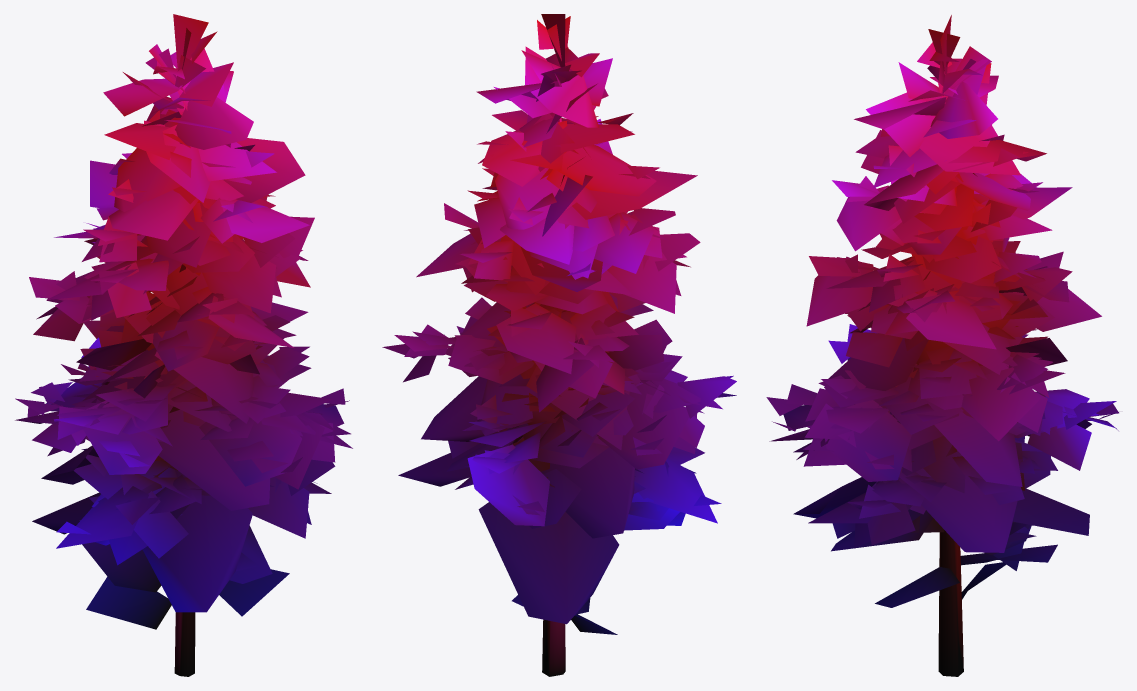
File: Fir_03_Medium.FBX
The picture shows the model from 3 angles, left to right: view 1: azimuth 30°, elevation 25°; view 2: azimuth 150°, elevation 25°; view 3: azimuth 270°, elevation 25°; orthographic projection.
Visible parts, largest first — view 1: Fir_03_Medium_LOD3; view 2: Fir_03_Medium_LOD3; view 3: Fir_03_Medium_LOD3.
Part boxes in pixels (x1,y1,x2,y2): Fir_03_Medium_LOD3: (15, 14, 352, 676); Fir_03_Medium_LOD3: (382, 14, 736, 676); Fir_03_Medium_LOD3: (766, 15, 1118, 676).
Size of the model in its own units: 5745 by 11891 by 5876.
